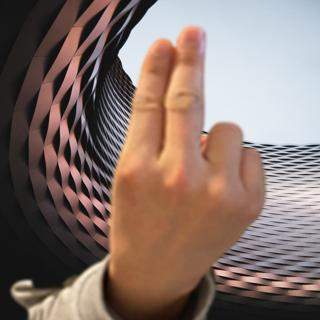DHAVE: (103, 17, 268, 292)
